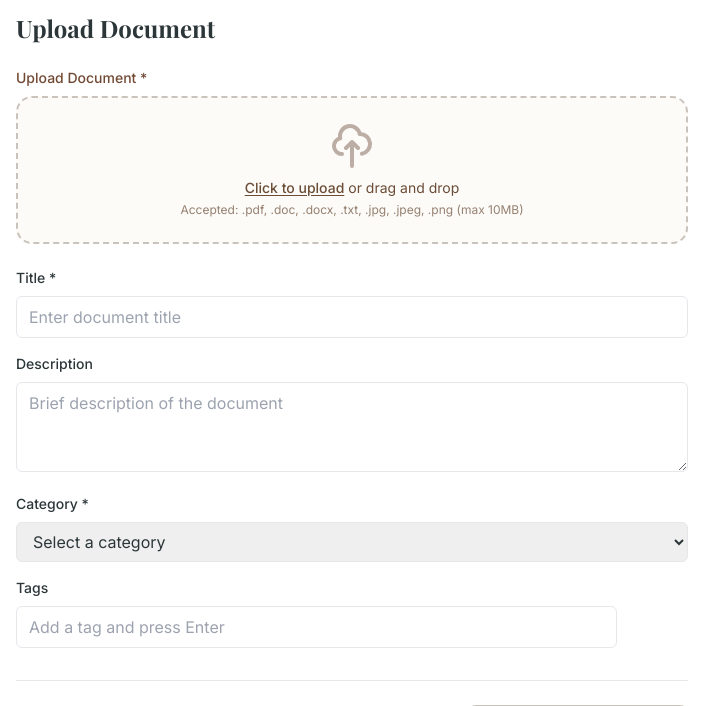
Test case: DocumentUpload – deep tests › tag management › adds a tag via Enter key
Type "lab-results" into the field with placeholder "Add a tag and press Enter" at (317,627), box [16, 606, 617, 648]
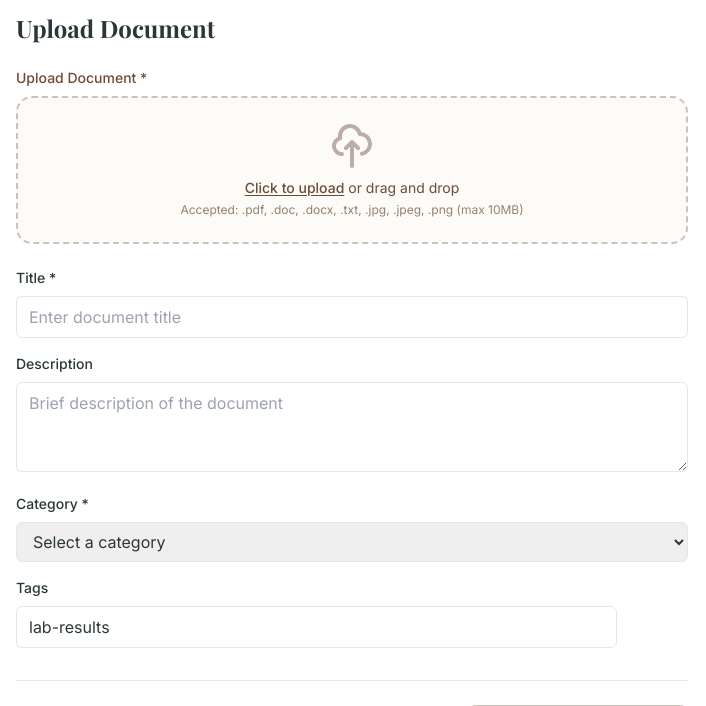
Press Enter in the field with placeholder "Add a tag and press Enter", box [16, 606, 617, 648]
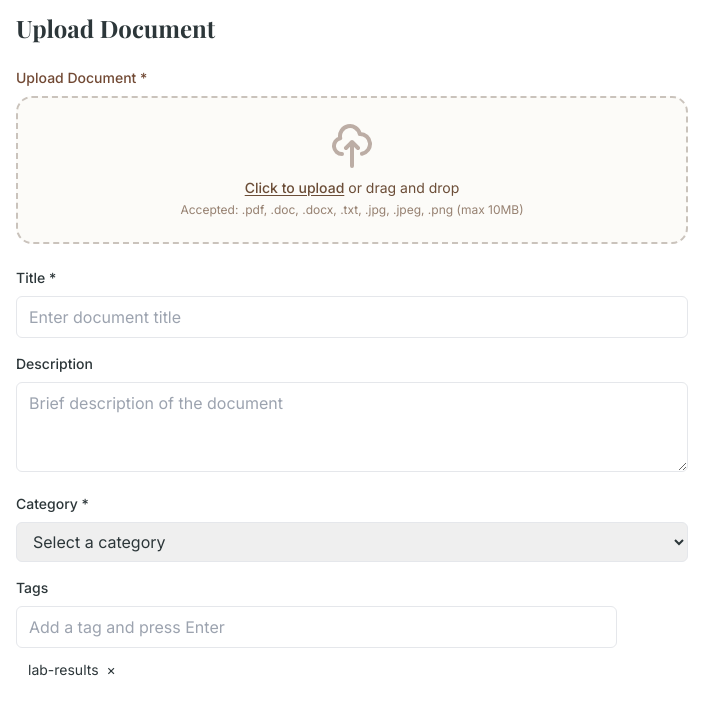
Result: the text "lab-results" is shown at [28, 661, 99, 678]
